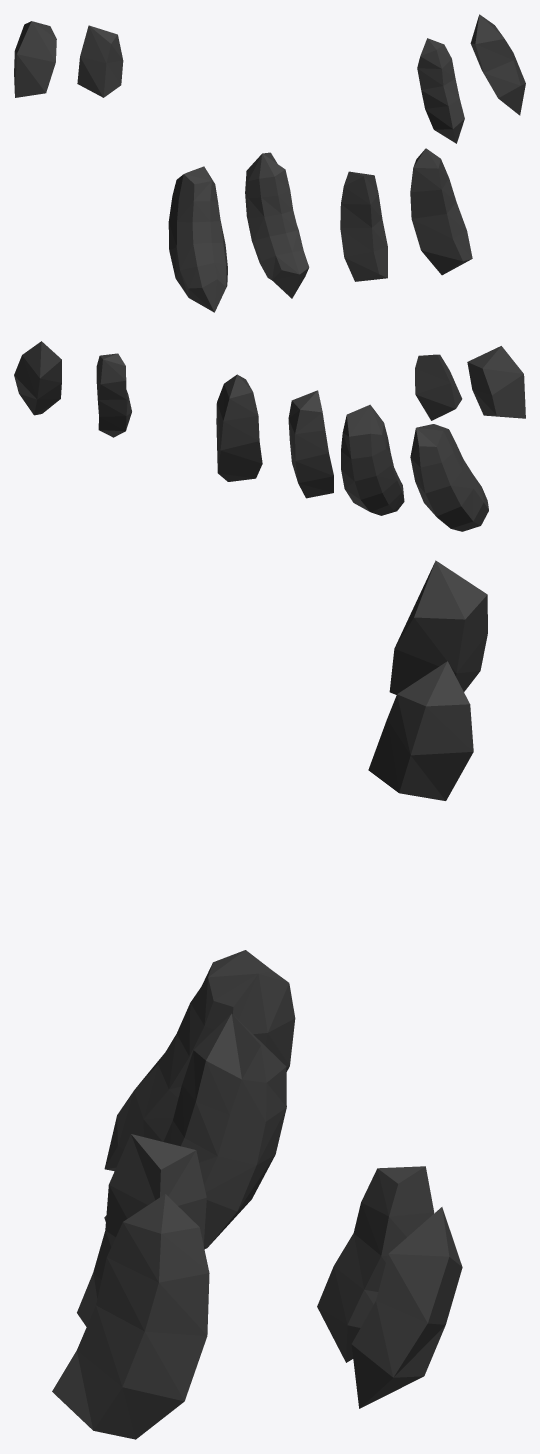
The model's file is Proximal.glb.
3 renders of one model, top to bottom at view 1: azimuth 30°, elevation 25°; view 2: azimuth 150°, elevation 25°; view 3: azimuth 270°, elevation 25°, orthographic. The views are drawn at different scales.
Parts seen in each view (by area): view 1: Proximal; view 2: Proximal; view 3: Proximal.
Boxes of the visible parts, <box> form: Proximal: <box>14,14,525,312</box>; Proximal: <box>14,341,525,531</box>; Proximal: <box>52,560,487,1439</box>.
Size of the model in its own units: 2.32 by 1.2 by 0.8679.
Materials: 1 (1 with a texture image).
